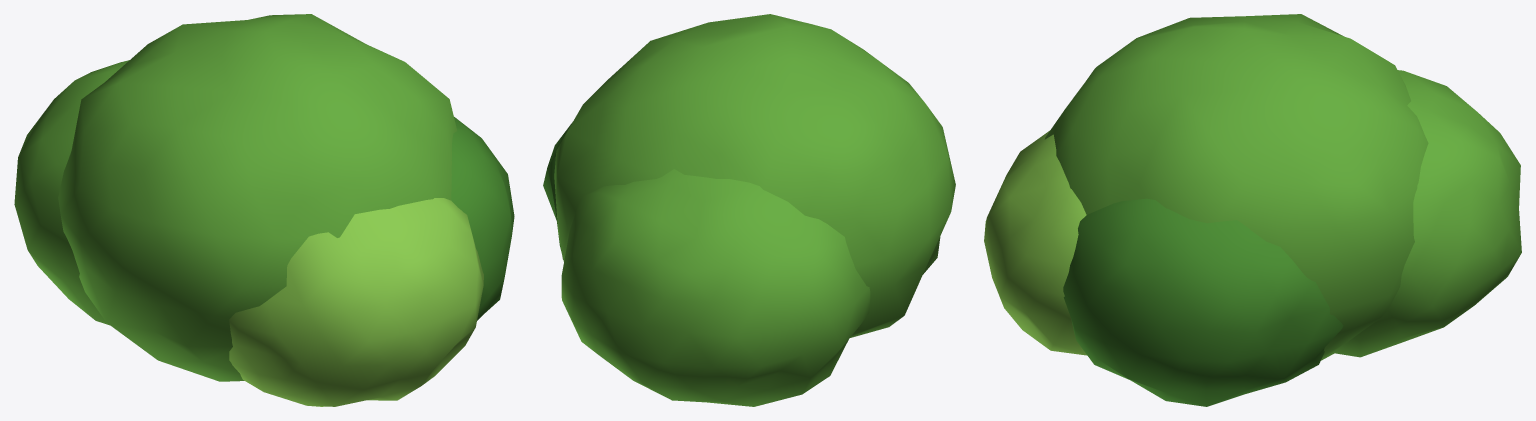
File: Bush2.fbx
3 renders of one model, left to right at view 1: azimuth 30°, elevation 25°; view 2: azimuth 150°, elevation 25°; view 3: azimuth 270°, elevation 25°, orthographic. The views are drawn at different scales.
Visible parts, largest first — view 1: Bush2; view 2: Bush2; view 3: Bush2.
Boxes of the visible parts, box(x1,y1,x2,y2) form: Bush2: box(14, 14, 514, 406); Bush2: box(543, 14, 955, 406); Bush2: box(984, 14, 1521, 406).
Bounding box in the file's own units: 1.06 × 0.8264 × 1.25.
Materials: 1 (1 with a texture image).
